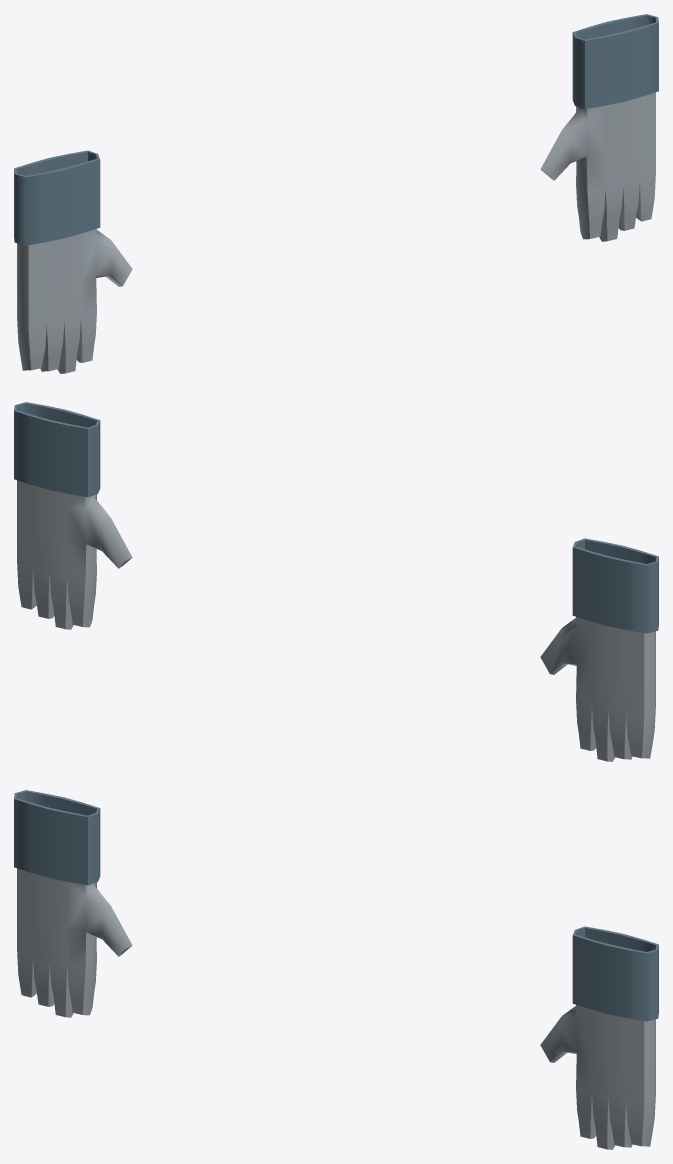
Rendered from Luvas.fbx.
3 renders of one model, top to bottom at view 1: azimuth 30°, elevation 25°; view 2: azimuth 150°, elevation 25°; view 3: azimuth 330°, elevation 25°, orthographic.
Parts seen in each view (by area): view 1: Luvas; view 2: Luvas; view 3: Luvas.
Boxes of the visible parts, left/top/right/bottom form: Luvas: left=14, top=14, right=658, bottom=373; Luvas: left=14, top=402, right=658, bottom=761; Luvas: left=14, top=790, right=658, bottom=1149.
Size of the model in its own units: 85.75 by 26.83 by 3.75.
